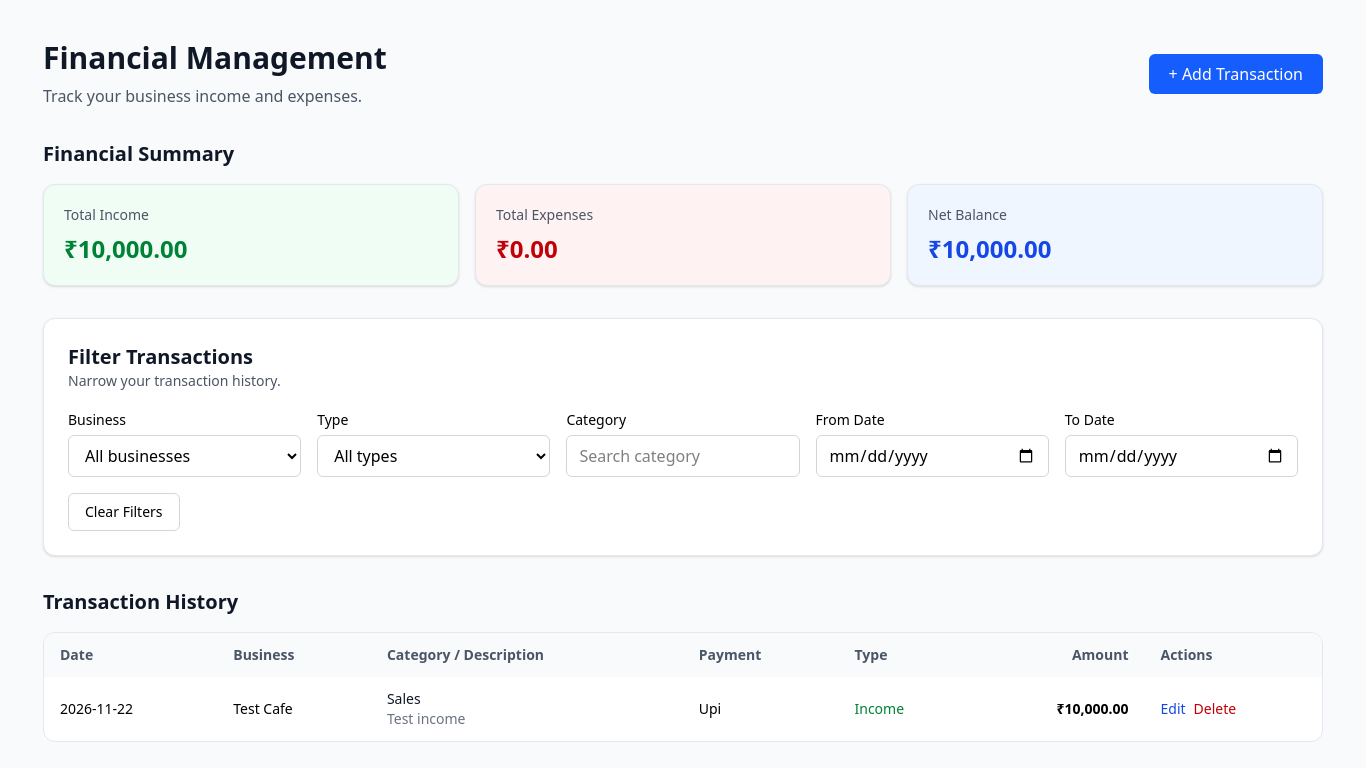
Scenario: TransactionsPage › opens the edit form when a transaction is edited
This screenshot has width=1366, height=768.
Click the button "Edit".
click(1173, 709)  # box [1160,699,1186,719]
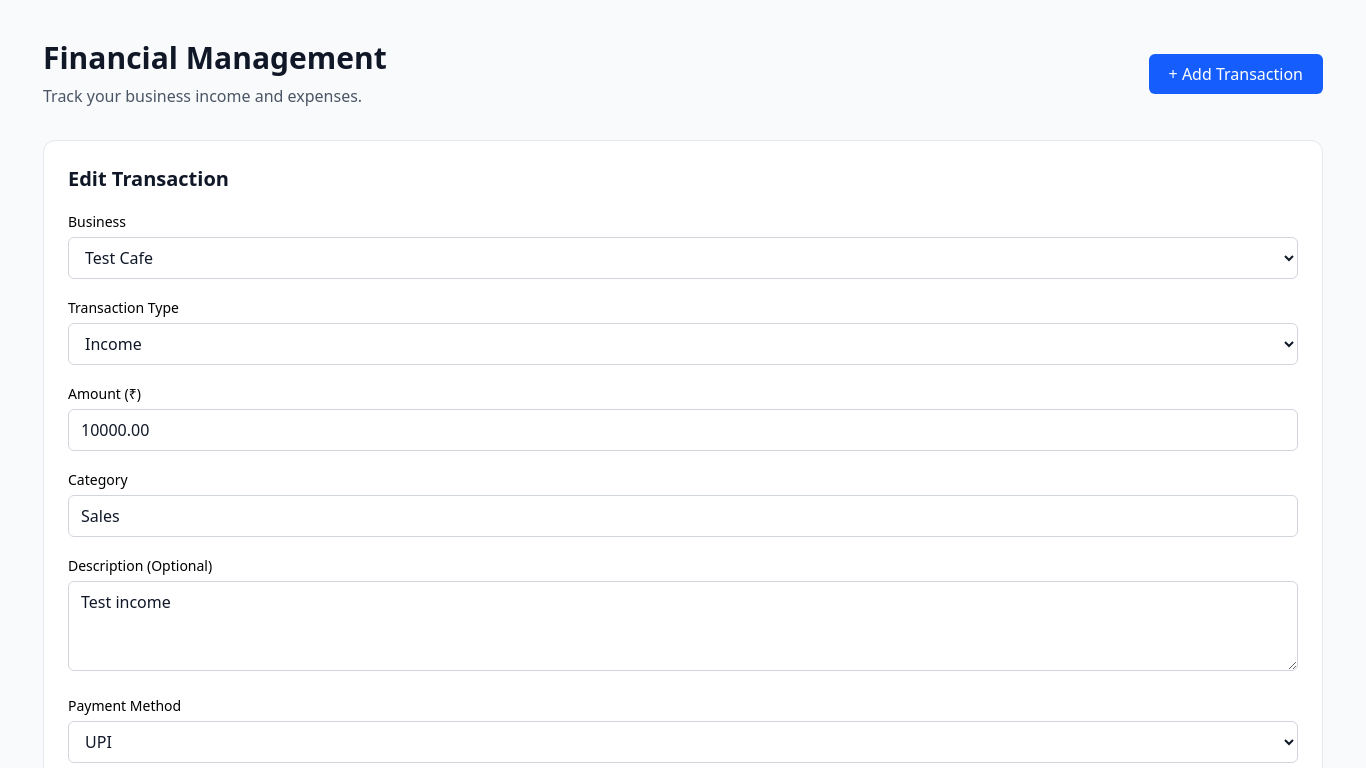
Expected: the heading "Edit Transaction" is shown, [68,165,229,192]
Expected: the field showing "Sales" is shown, [68,495,1298,537]
